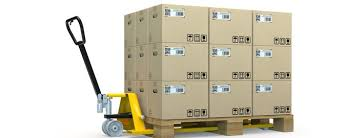box: (161, 43, 208, 83), (161, 5, 208, 44), (161, 81, 208, 119), (209, 7, 252, 47), (208, 45, 252, 83), (208, 81, 252, 118), (252, 10, 292, 47), (252, 45, 292, 82), (252, 81, 293, 115), (147, 5, 161, 45), (123, 46, 137, 83), (147, 46, 161, 83), (123, 12, 137, 47), (136, 6, 147, 47), (138, 49, 149, 82)
box_label: (210, 9, 232, 23), (163, 83, 186, 96), (209, 83, 232, 96), (253, 80, 273, 94), (209, 46, 232, 58), (163, 46, 187, 57), (163, 7, 186, 18), (254, 11, 273, 24), (254, 48, 274, 58)
pallet: (142, 112, 294, 138)
